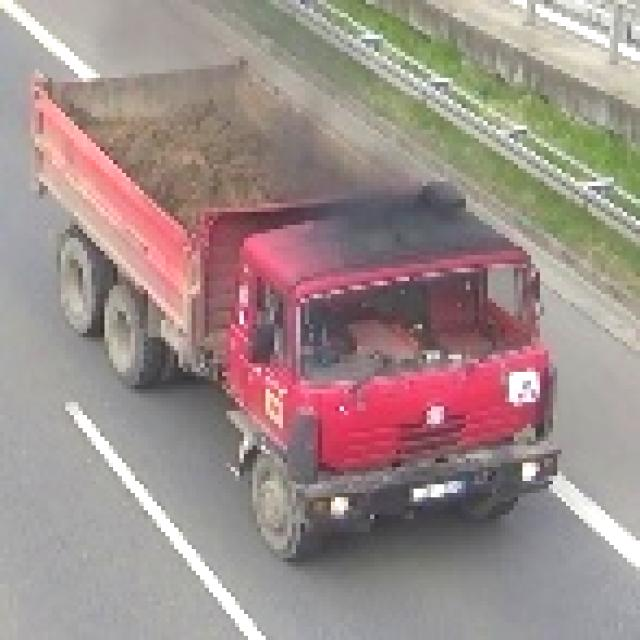truck: (27, 62, 558, 563)
